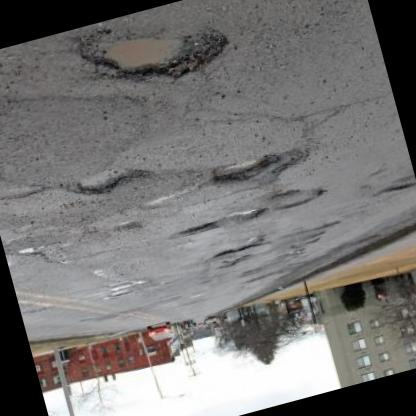pothole: (74, 8, 236, 104), (70, 158, 154, 203), (206, 150, 283, 192), (209, 240, 262, 263), (221, 203, 268, 228), (174, 220, 221, 242)
